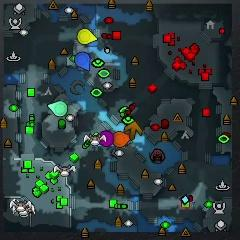p1: (75, 52, 91, 71)
p2: (47, 101, 68, 117)
p3: (99, 131, 113, 146)
p4: (77, 29, 97, 44)
p5: (113, 131, 130, 147)
x5: (125, 122, 142, 141)
